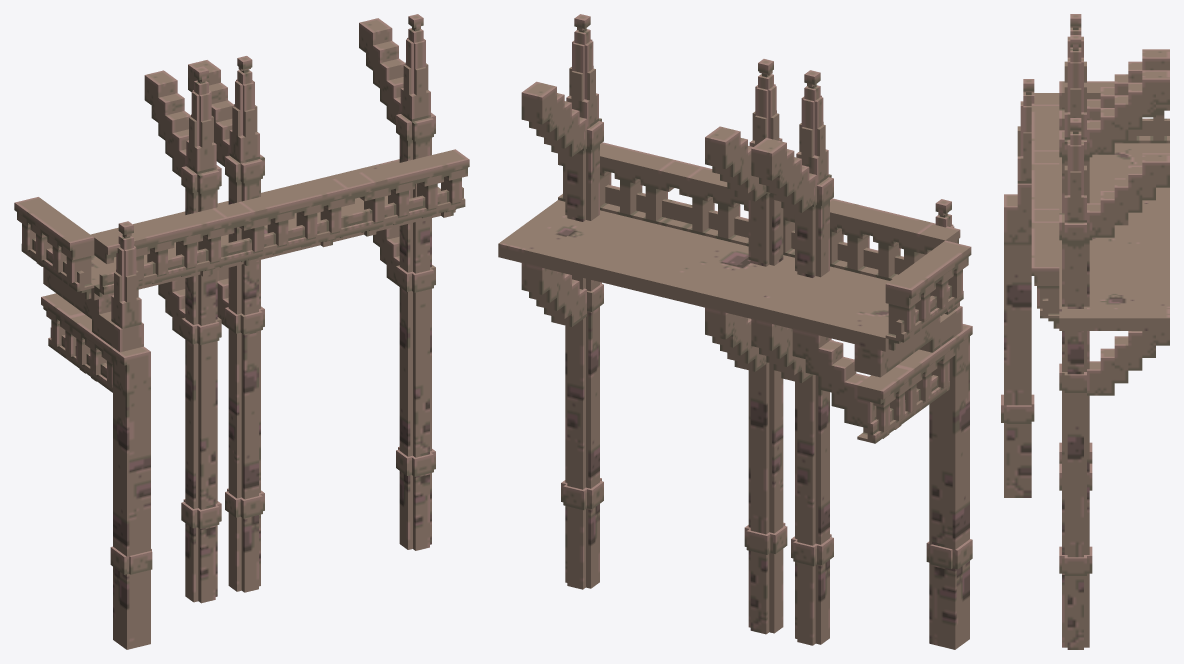
File: Bridge-0.fbx
3 views of the same model, side by side, from view 1: azimuth 30°, elevation 25°; view 2: azimuth 150°, elevation 25°; view 3: azimuth 270°, elevation 25° (orthographic). The views are drawn at different scales.
Parts seen in each view (by area): view 1: Bridge-0; view 2: Bridge-0; view 3: Bridge-0.
Part boxes in pixels (x1,y1,x2,y2): Bridge-0: [14, 14, 469, 649]; Bridge-0: [498, 14, 972, 649]; Bridge-0: [1001, 14, 1169, 649].
Size of the model in its own units: 800 by 1045 by 305.
